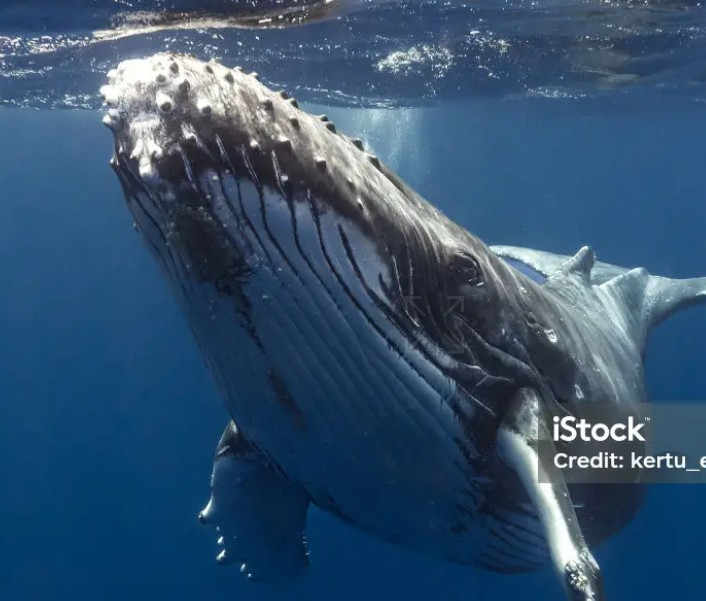whale: (118, 36, 704, 589)
